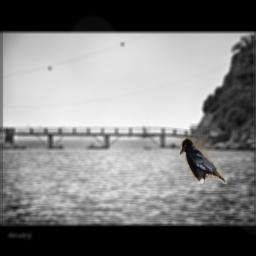Crow: (180, 137, 227, 184)
